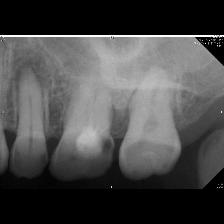apical_lesion: (9, 43, 53, 180)
